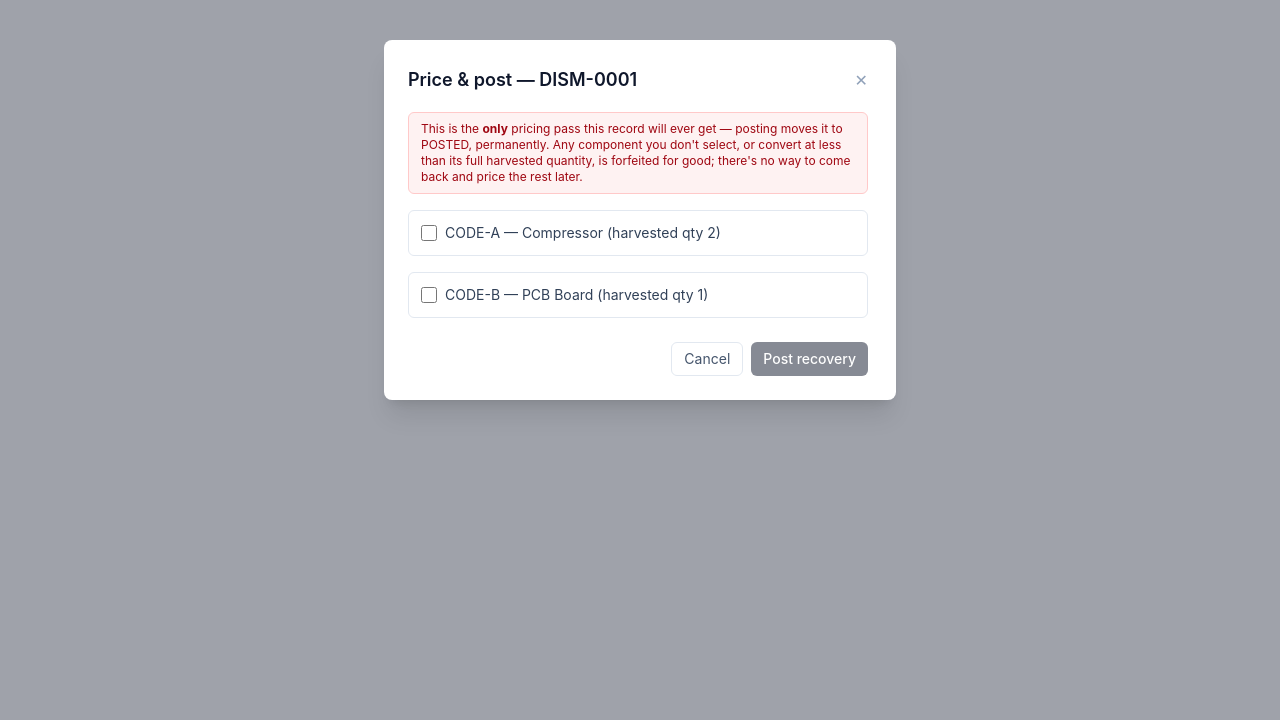
Scenario: PriceAndPostModal - finality (the-fool finding #2) › does not require the confirmation checkbox when every eligible component is selected
The width and height of the screenshot is (1280, 720).
Click the checkbox labelled "CODE-A — Compressor (harvested qty 2)" at (429, 233), box [421,225,437,241]
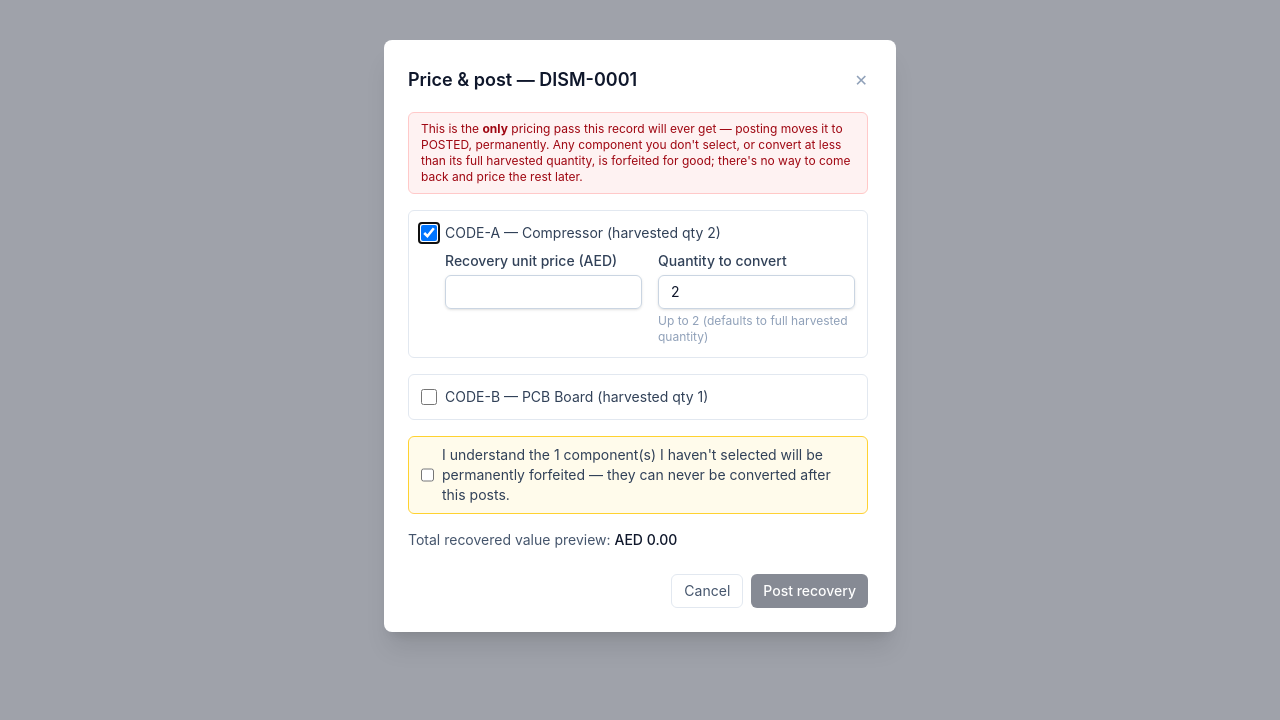
Click the checkbox labelled "CODE-B — PCB Board (harvested qty 1)" at (429, 397), box [421,389,437,405]
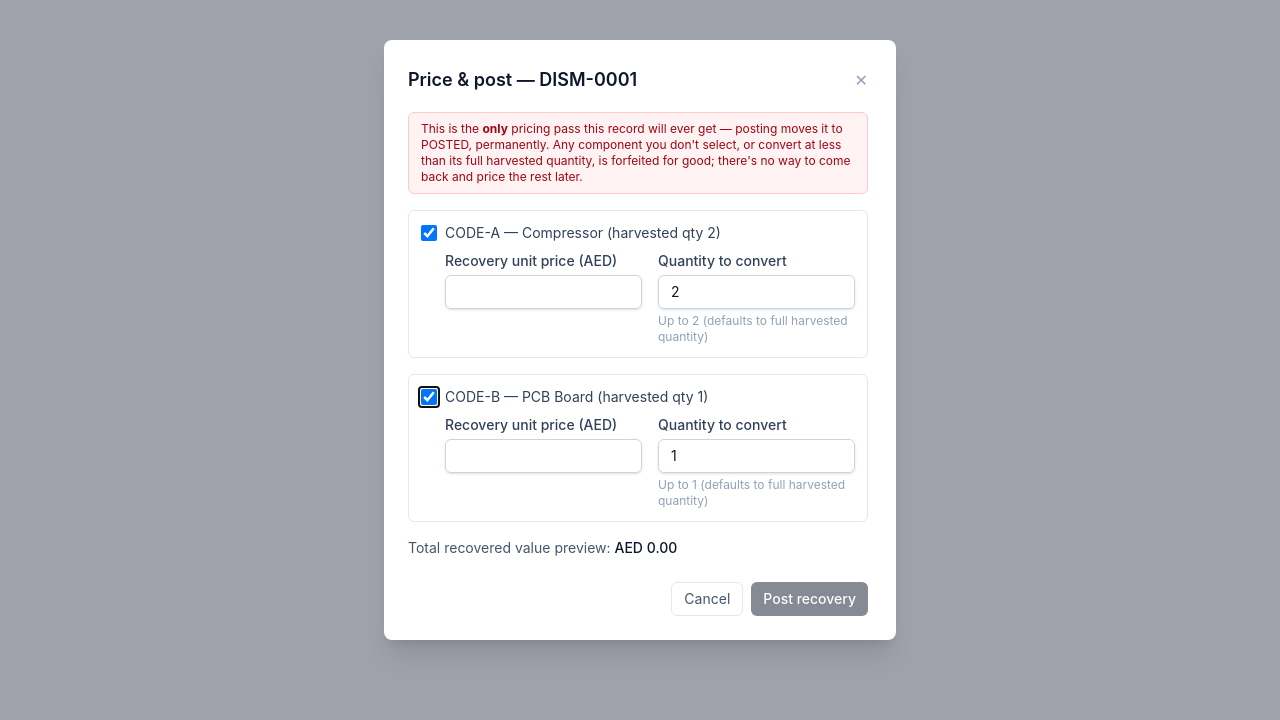
Note: Two rows, each with price + quantity inputs.
Type "85" into the number field labelled "Recovery unit price (AED)" below "CODE-A — Compressor (harvested qty 2)" at (544, 292), box [445,275,642,309]
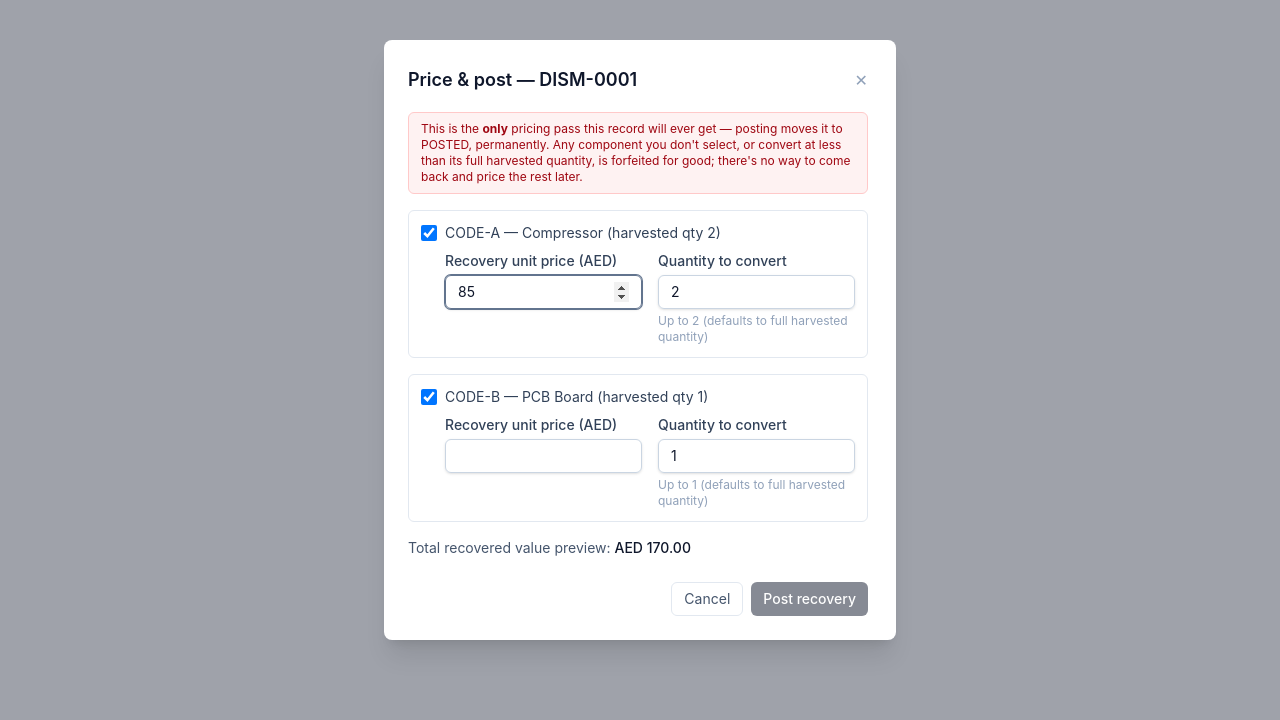
Type "40" into the number field labelled "Recovery unit price (AED)" below "CODE-B — PCB Board (harvested qty 1)" at (544, 456), box [445,439,642,473]
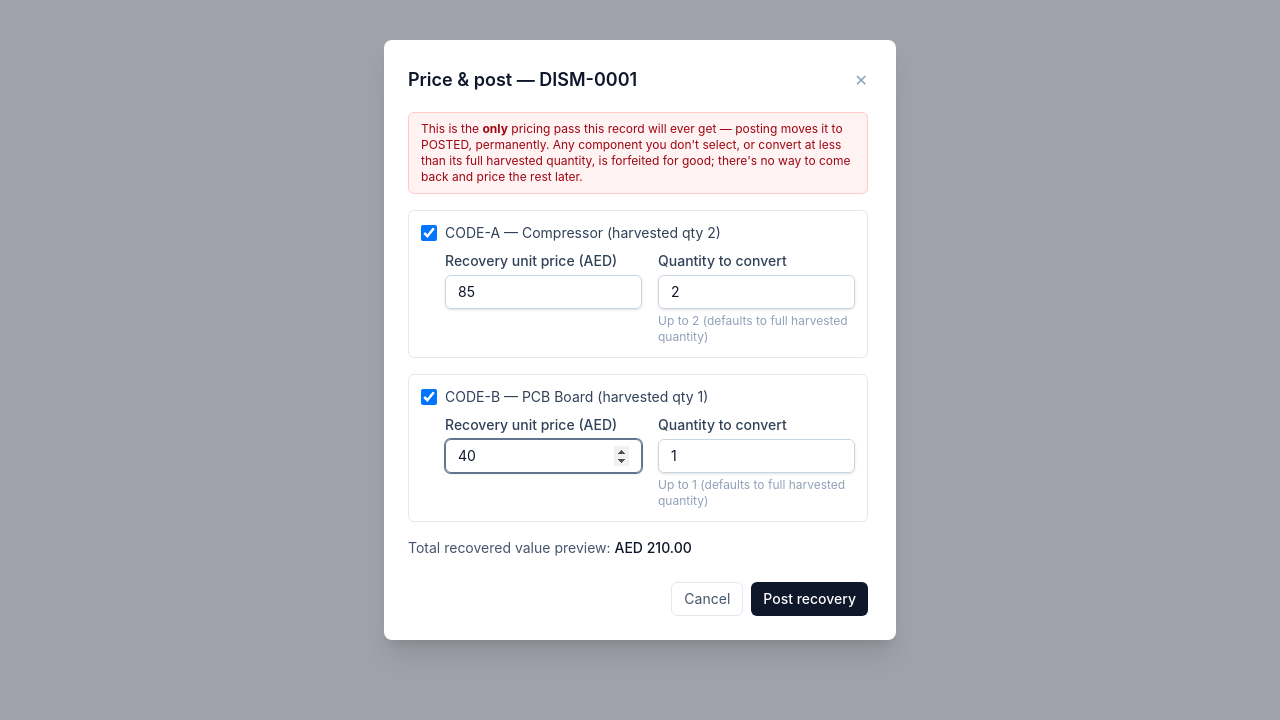
Expected: the text "permanently forfeited" is not shown
Now the button "Post recovery" is enabled, box [751,582,868,616]
